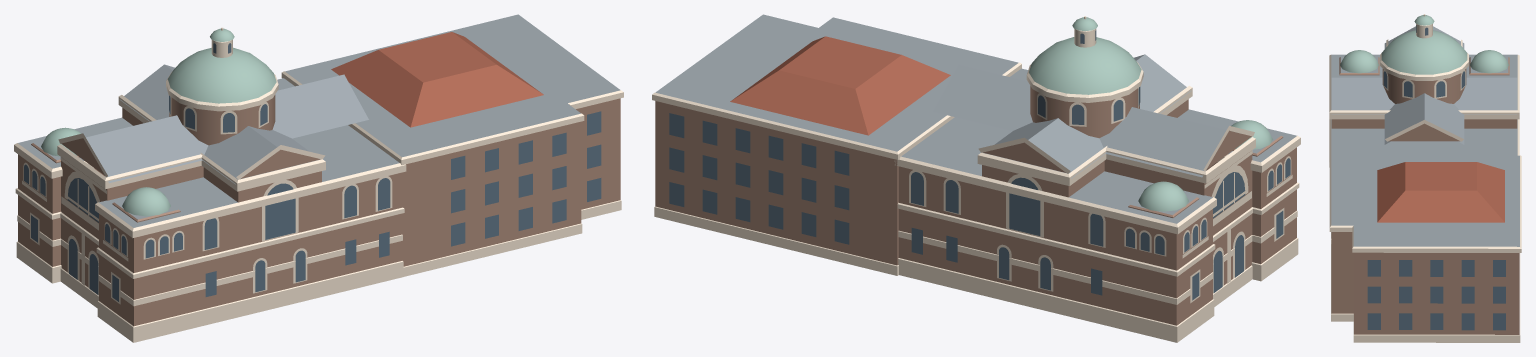
File: mcglohon-theater-spirit-square.glb
3 renders of one model, left to right at view 1: azimuth 30°, elevation 25°; view 2: azimuth 150°, elevation 25°; view 3: azimuth 270°, elevation 25°, orthographic. The views are drawn at different scales.
Parts seen in each view (by area): view 1: McGlohon Theater at Spirit Square; view 2: McGlohon Theater at Spirit Square; view 3: McGlohon Theater at Spirit Square.
Part boxes in pixels (<box>): McGlohon Theater at Spirit Square: <box>14,14,623,342</box>; McGlohon Theater at Spirit Square: <box>652,14,1300,342</box>; McGlohon Theater at Spirit Square: <box>1329,14,1521,342</box>.
Size of the model in its own units: 60.55 by 27 by 24.85.
